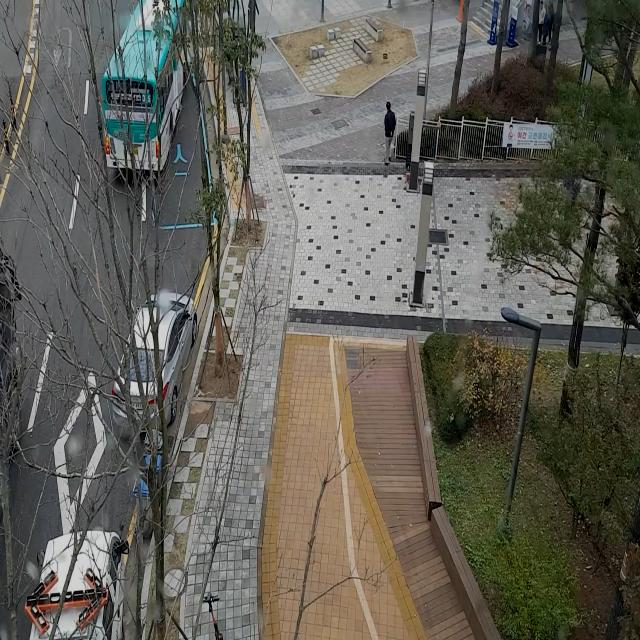Bus: (97, 0, 197, 183)
Car: (104, 277, 217, 439)
Truck: (17, 522, 139, 640), (0, 216, 43, 534)
